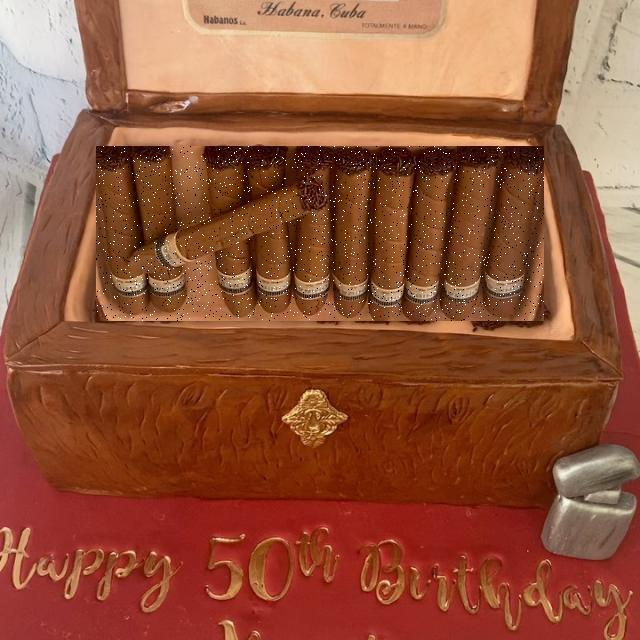smoking: (96, 146, 544, 321)
